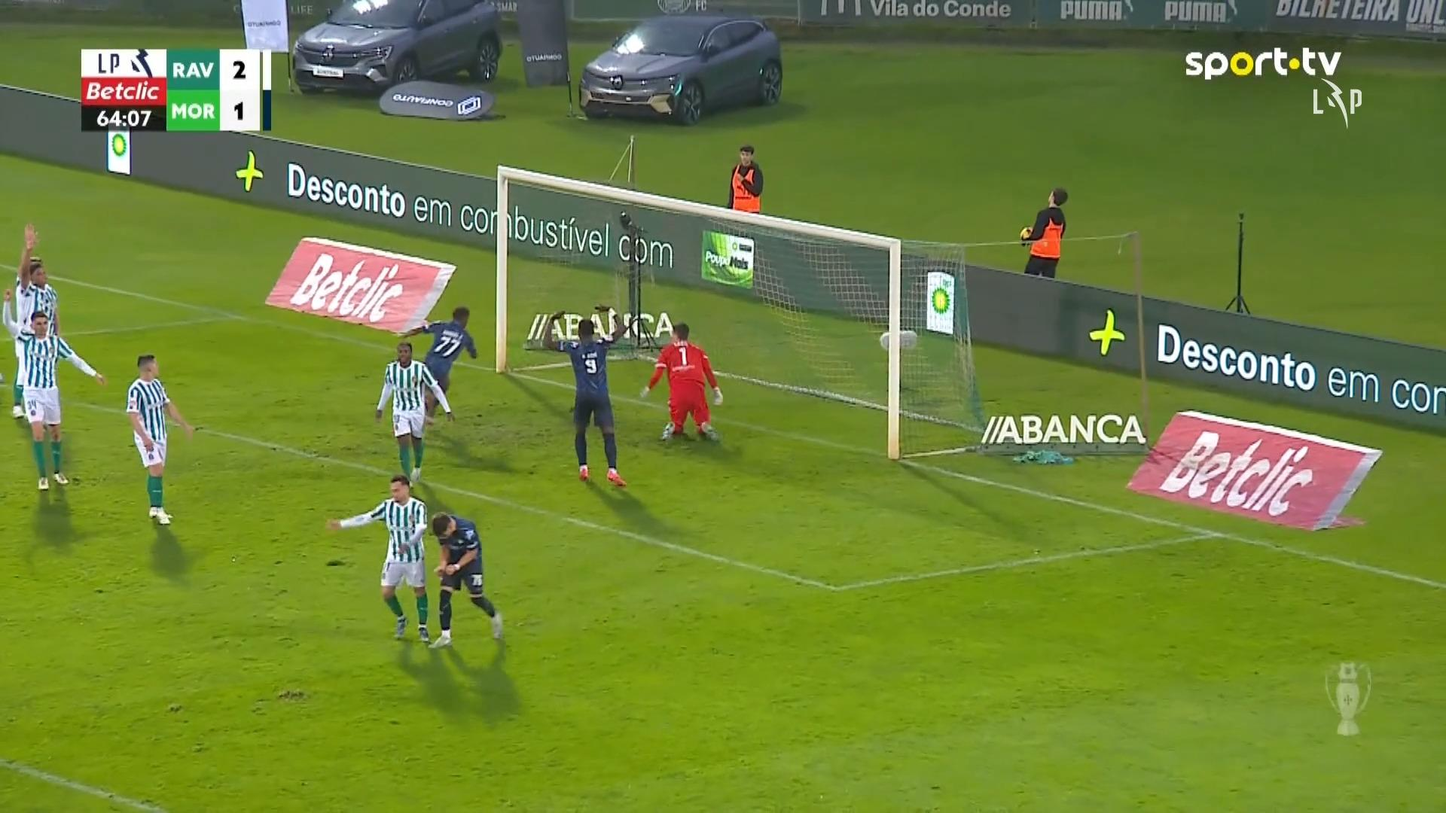goalkeeper: (639, 321, 723, 443)
player: (1, 289, 105, 489), (325, 473, 431, 643), (542, 311, 628, 488), (124, 353, 194, 525), (373, 340, 454, 486), (2, 221, 59, 419), (427, 511, 504, 649), (392, 305, 478, 422)
